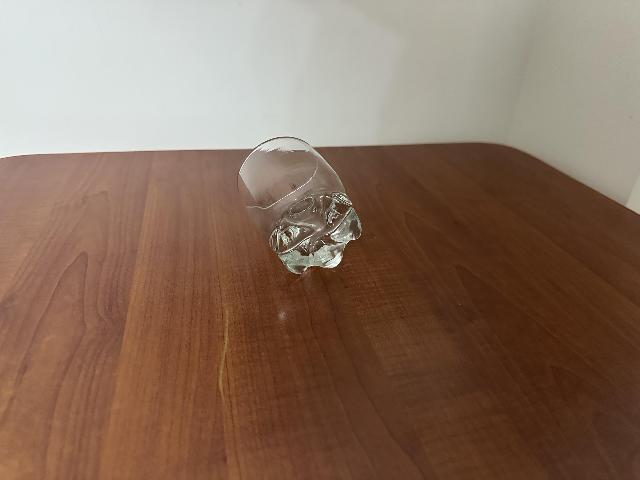Cam: (227, 132, 367, 275)
